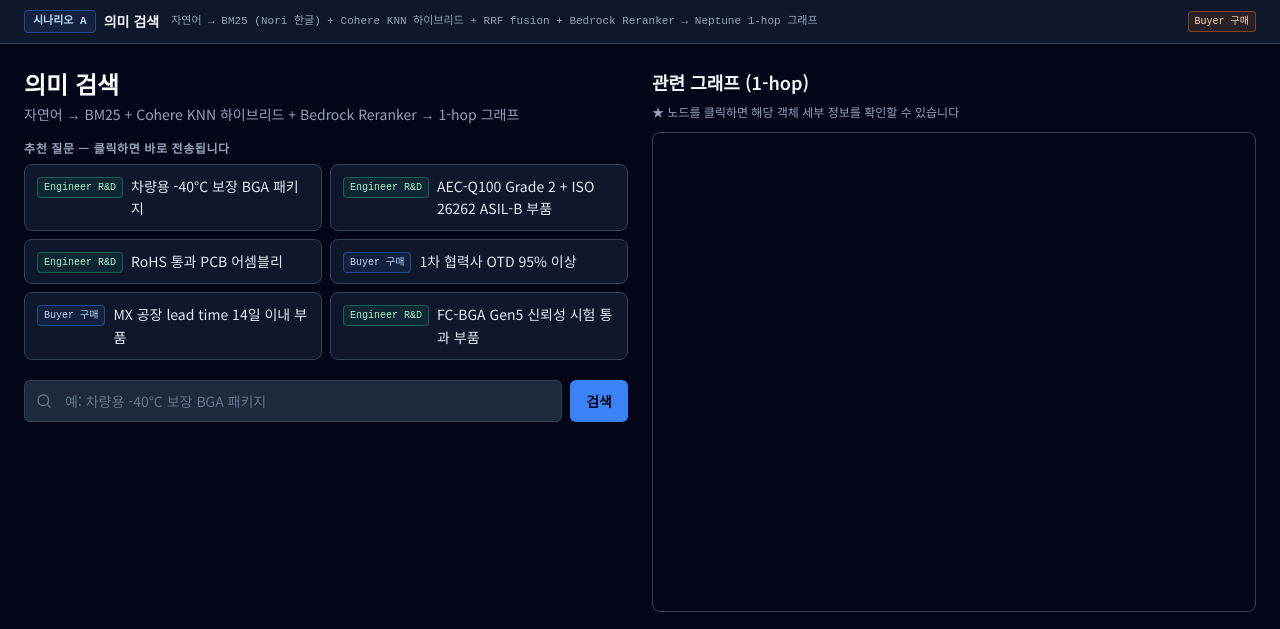
Test case: W5 — sample chips use their own persona; no overlapping submits › search
This screenshot has width=1280, height=629.
Step 1. Click the button "Engineer R&D 차량용 -40°C 보장 BGA 패키지" → (173, 197), box x1=24 y1=164 x2=322 y2=231
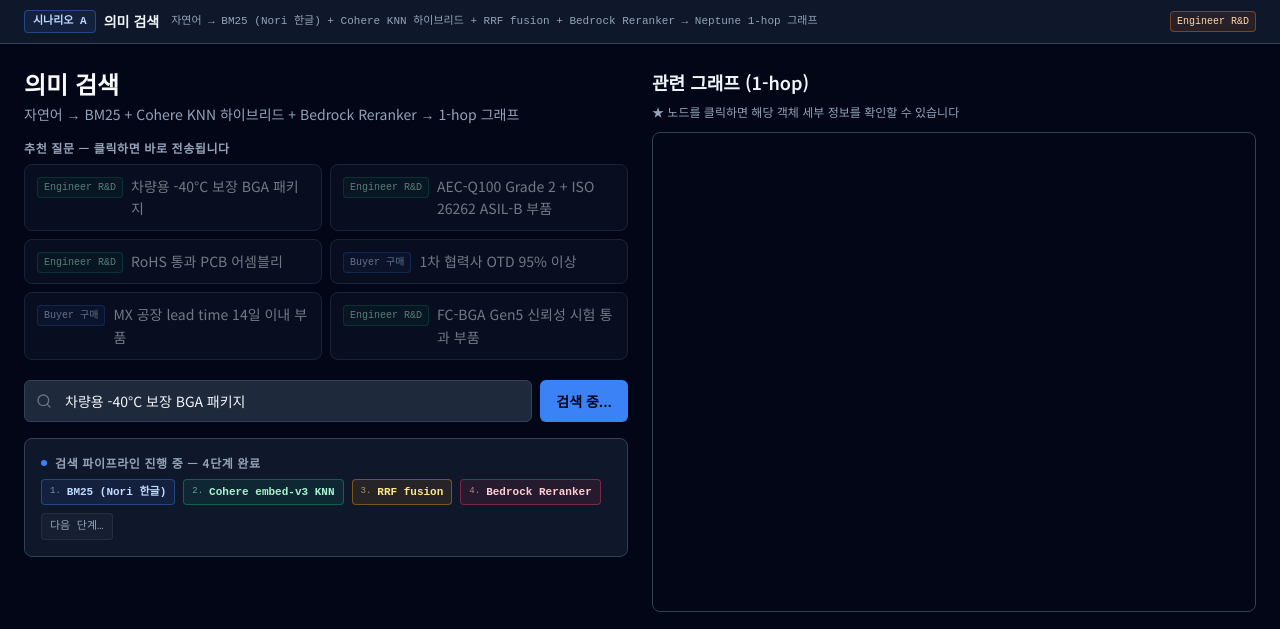
Step 2. Click the button "검색 중..." → (584, 400), box x1=540 y1=380 x2=628 y2=422
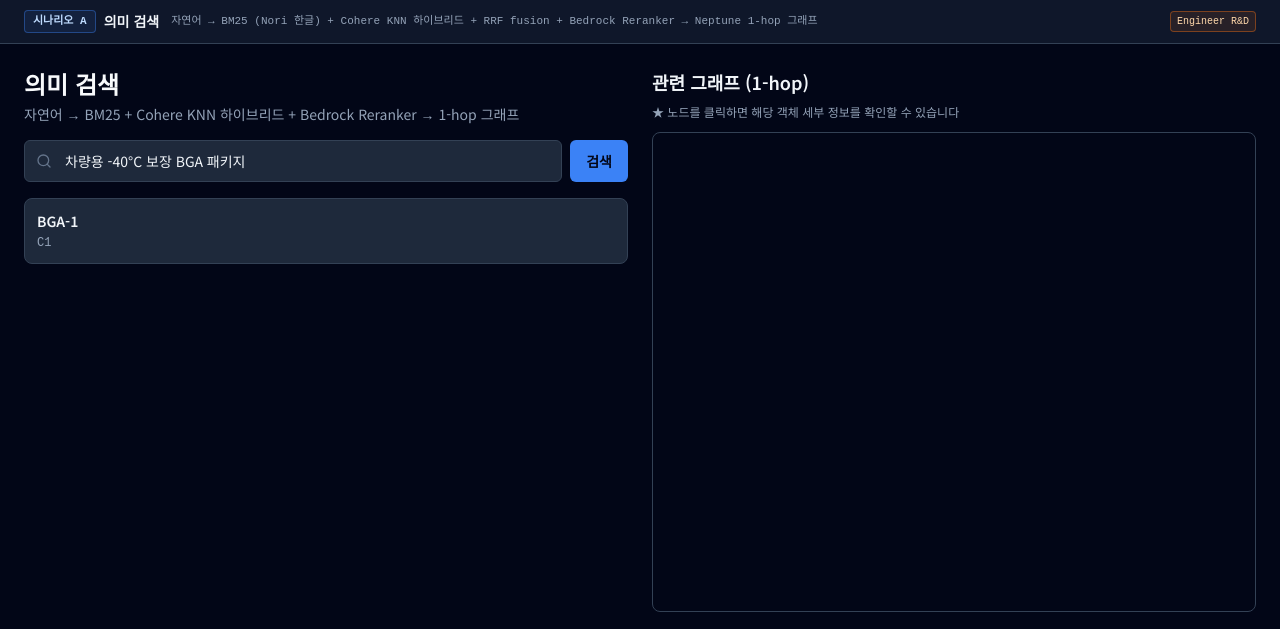
Expected: the text "BGA-1" is shown, x1=37 y1=210 x2=78 y2=230
